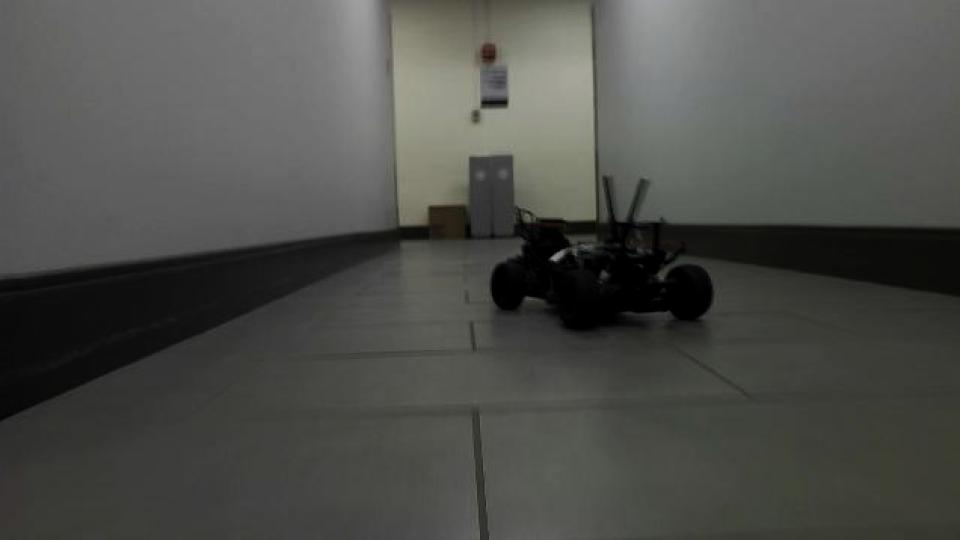car: (486, 172, 716, 332)
